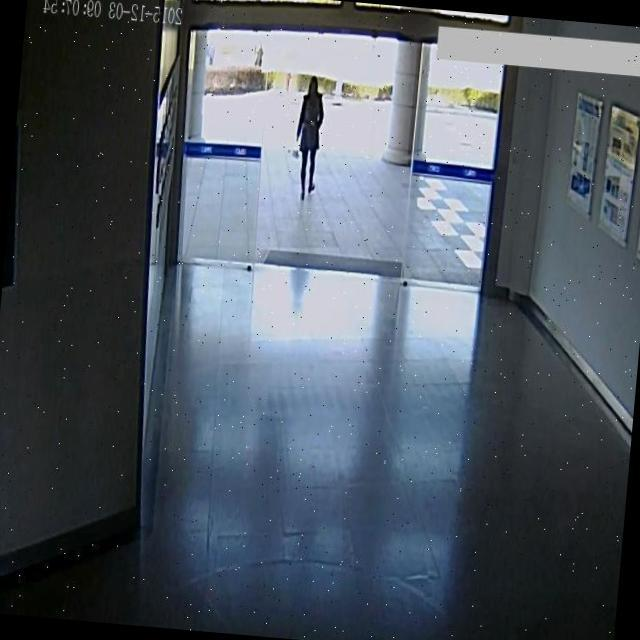person: (283, 66, 333, 203)
